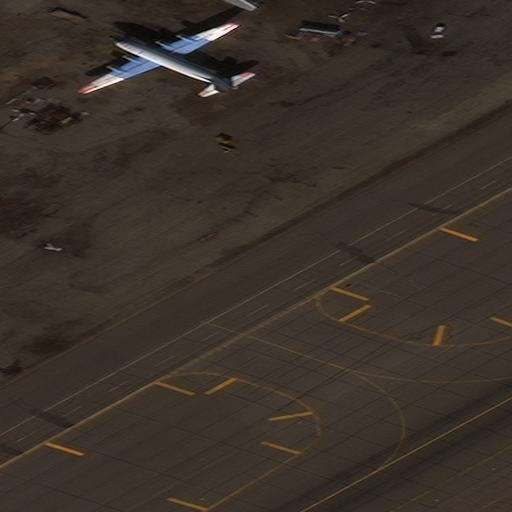Large Civil Transport: (76, 21, 234, 92)
